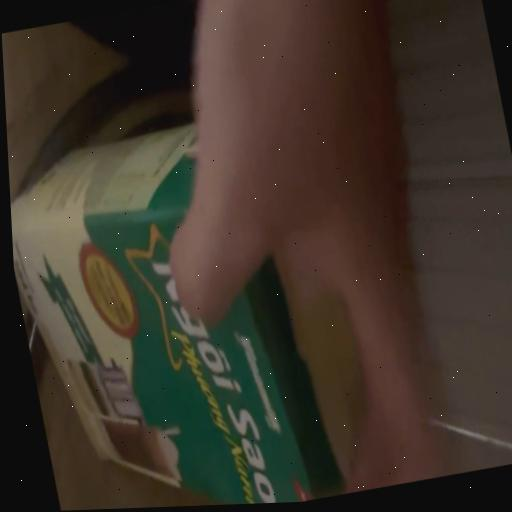ly_giay: (11, 124, 340, 505)
